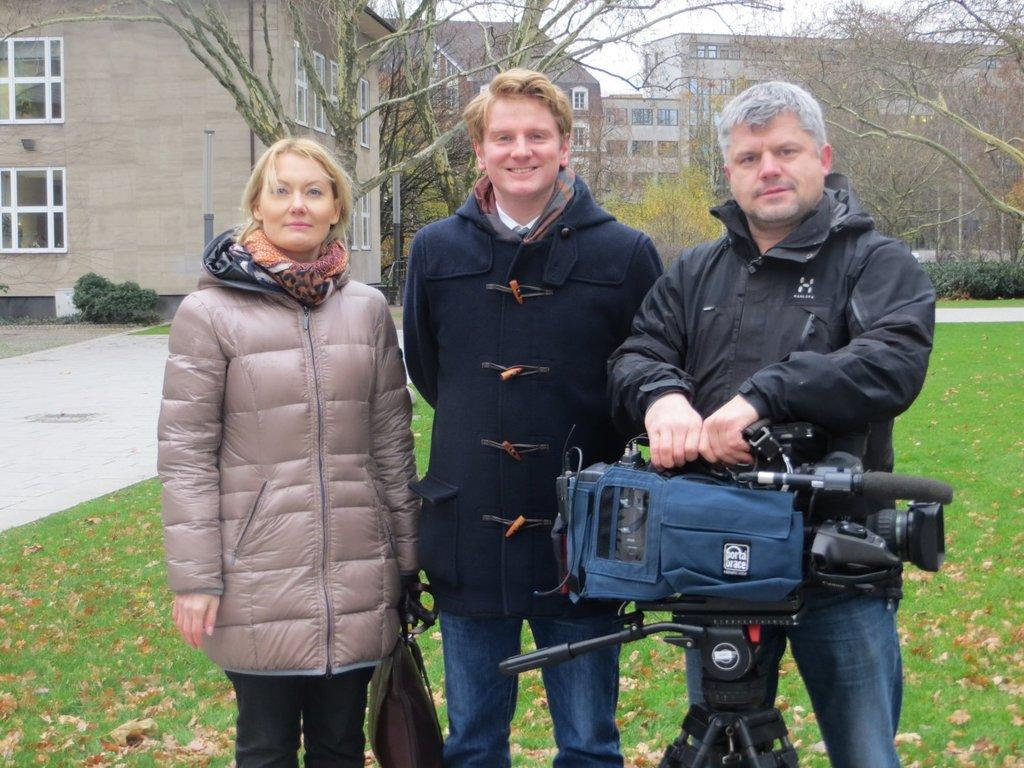Luggage-and-bags: (362, 579, 446, 767)
